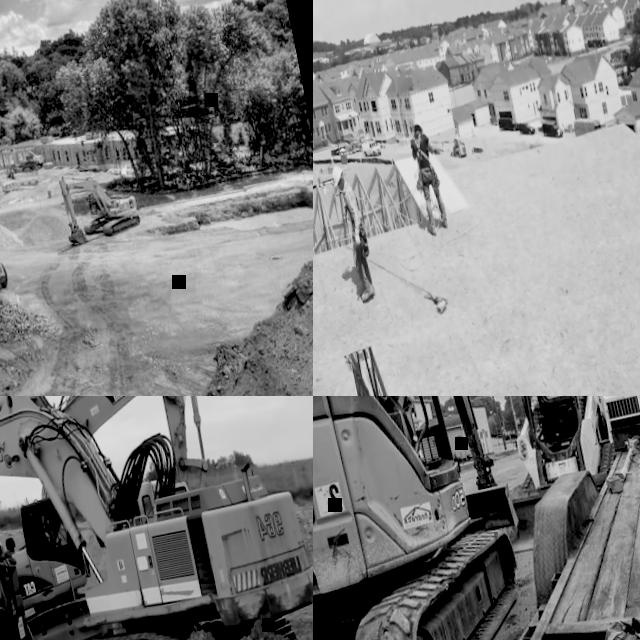Hardhat: (331, 164, 346, 186), (412, 118, 424, 133)
NO-Mask: (338, 184, 344, 191)
NO-Safety Vest: (412, 133, 433, 169)
Person: (331, 163, 378, 301), (406, 116, 450, 237), (43, 517, 57, 545)
Safety Vest: (45, 529, 55, 543)
machinery: (0, 396, 313, 640), (0, 396, 247, 640), (313, 396, 554, 640), (466, 396, 629, 555), (55, 160, 141, 248), (595, 396, 640, 432), (342, 133, 362, 155)
vehicle: (541, 118, 564, 140), (361, 138, 382, 158), (497, 114, 518, 133), (517, 119, 535, 136)
